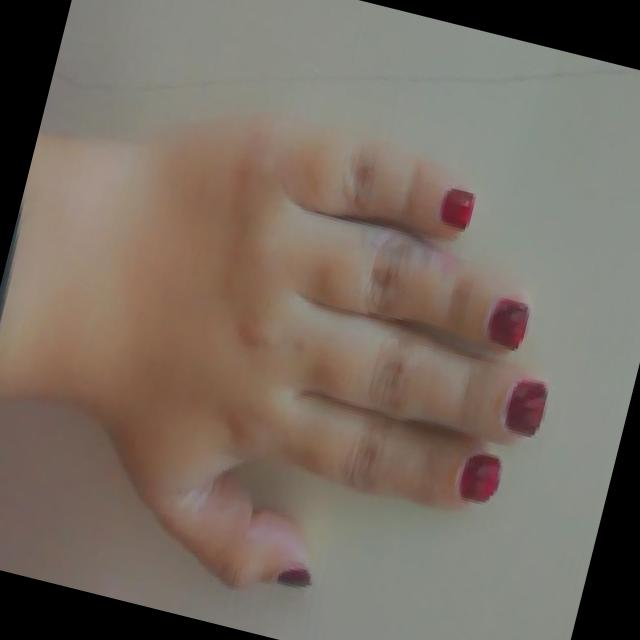Nail: (504, 379, 546, 436), (487, 298, 528, 350), (459, 453, 500, 502), (439, 188, 473, 229), (276, 569, 309, 587)
